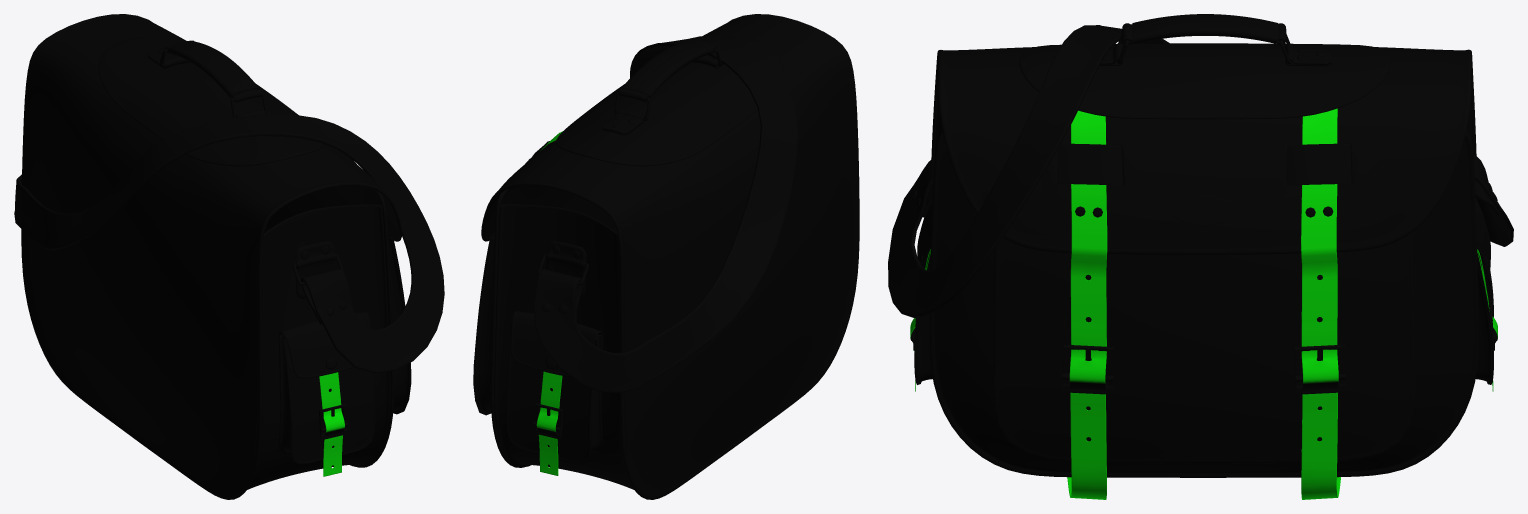
The model's file is bag.fbx.
The picture shows the model from 3 angles, left to right: view 1: azimuth 30°, elevation 25°; view 2: azimuth 150°, elevation 25°; view 3: azimuth 270°, elevation 25°; orthographic projection. The views are drawn at different scales.
Visible parts, largest first — view 1: bag; view 2: bag; view 3: bag.
Boxes of the visible parts, x1=… form: bag: x1=14, y1=14, x2=444, y2=499; bag: x1=473, y1=14, x2=859, y2=499; bag: x1=888, y1=14, x2=1513, y2=499.
Bounding box in the file's own units: 13.55 × 19.72 × 26.01.
